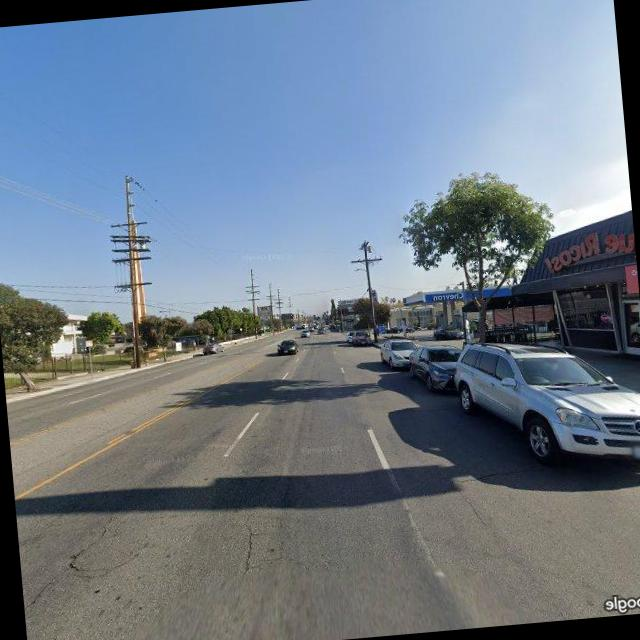crack: (22, 504, 136, 604), (238, 517, 264, 573), (461, 491, 492, 529)
